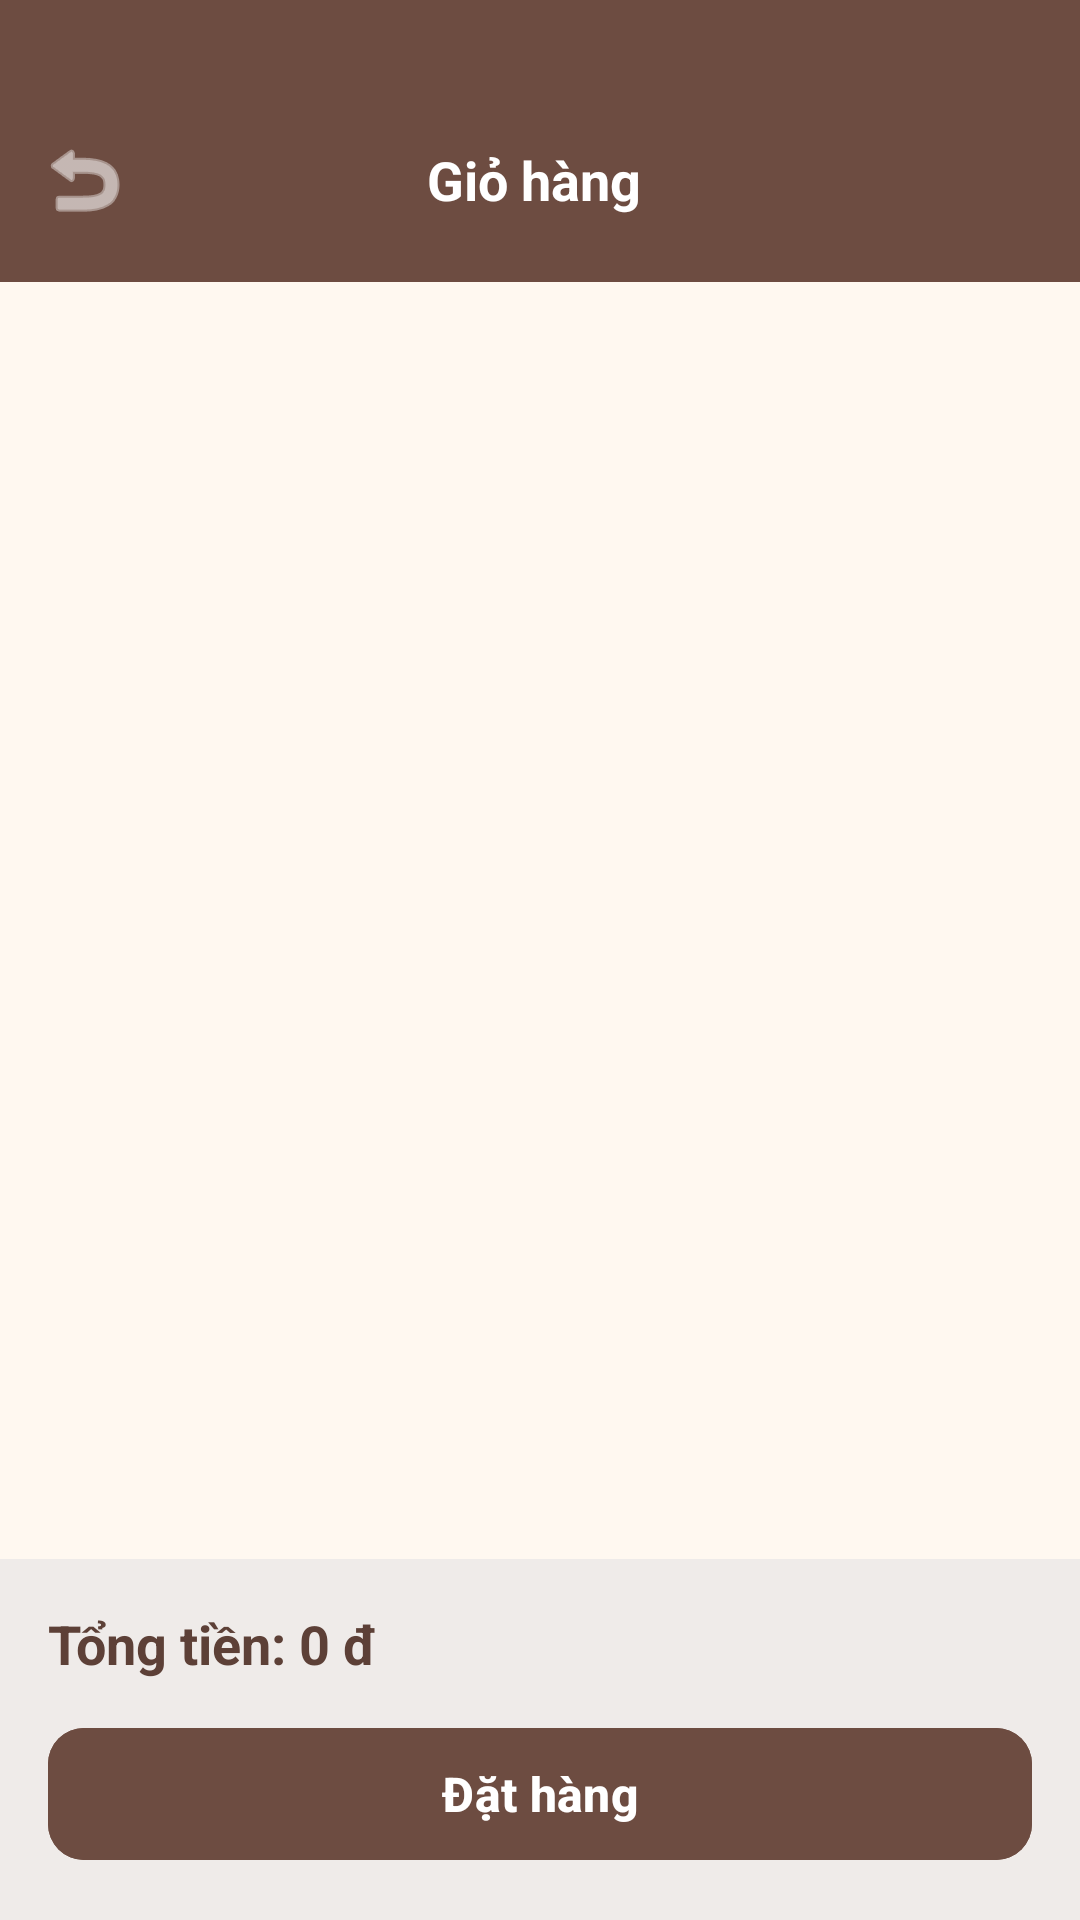

Icons on this 1080px×1920px Android screen, each with the point to tap as point (x, y):
Quay lại: point (85, 180)
